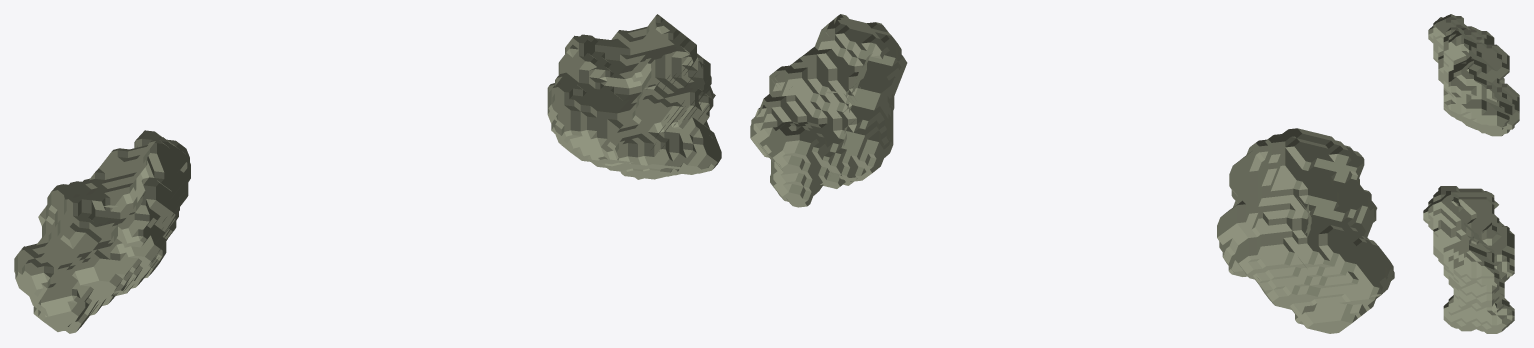
The model's file is region_0033_DAO__dorsal_accessory_optic_nucleus_.glb.
3 views of the same model, side by side, from view 1: azimuth 30°, elevation 25°; view 2: azimuth 150°, elevation 25°; view 3: azimuth 270°, elevation 25° (orthographic). The views are drawn at different scales.
Visible parts, largest first — view 1: world; view 2: world; view 3: world.
Part boxes in pixels (x1,y1,x2,y2): world: [14, 14, 721, 333]; world: [750, 14, 1394, 333]; world: [1423, 14, 1519, 333].
Bounding box in the file's own units: 0.88 × 0.224 × 0.152.
